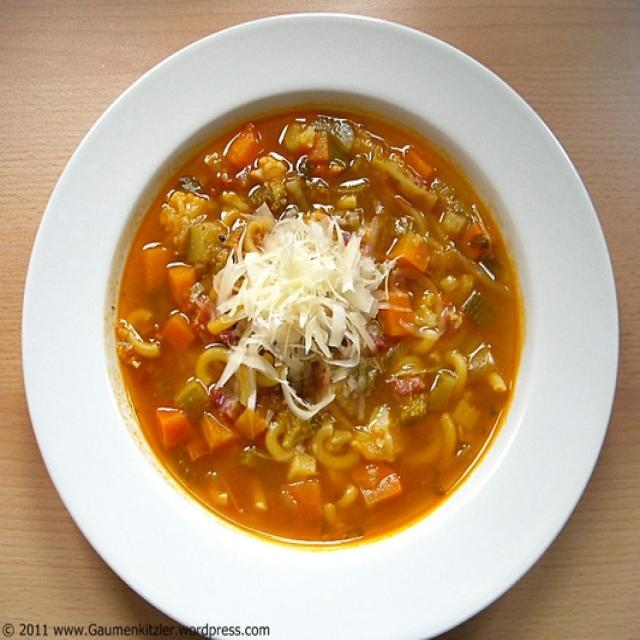汤锅炖物: (17, 15, 628, 632)
